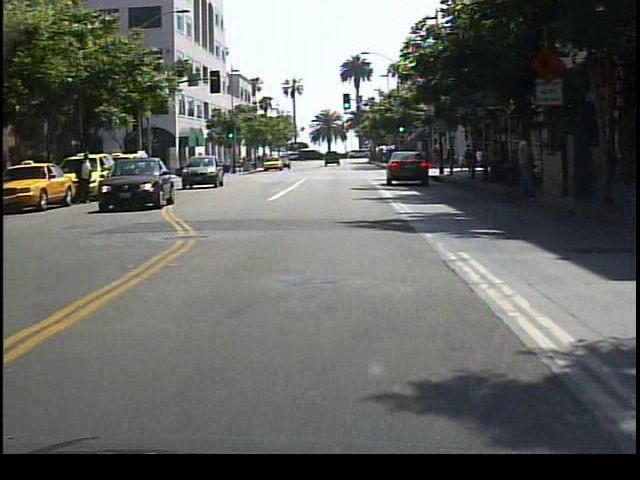person: (512, 130, 540, 203), (77, 147, 99, 207)
